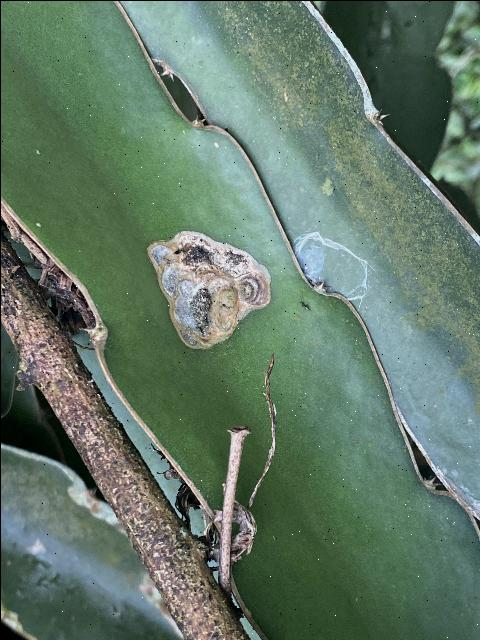stemcanker: (143, 224, 278, 354)
